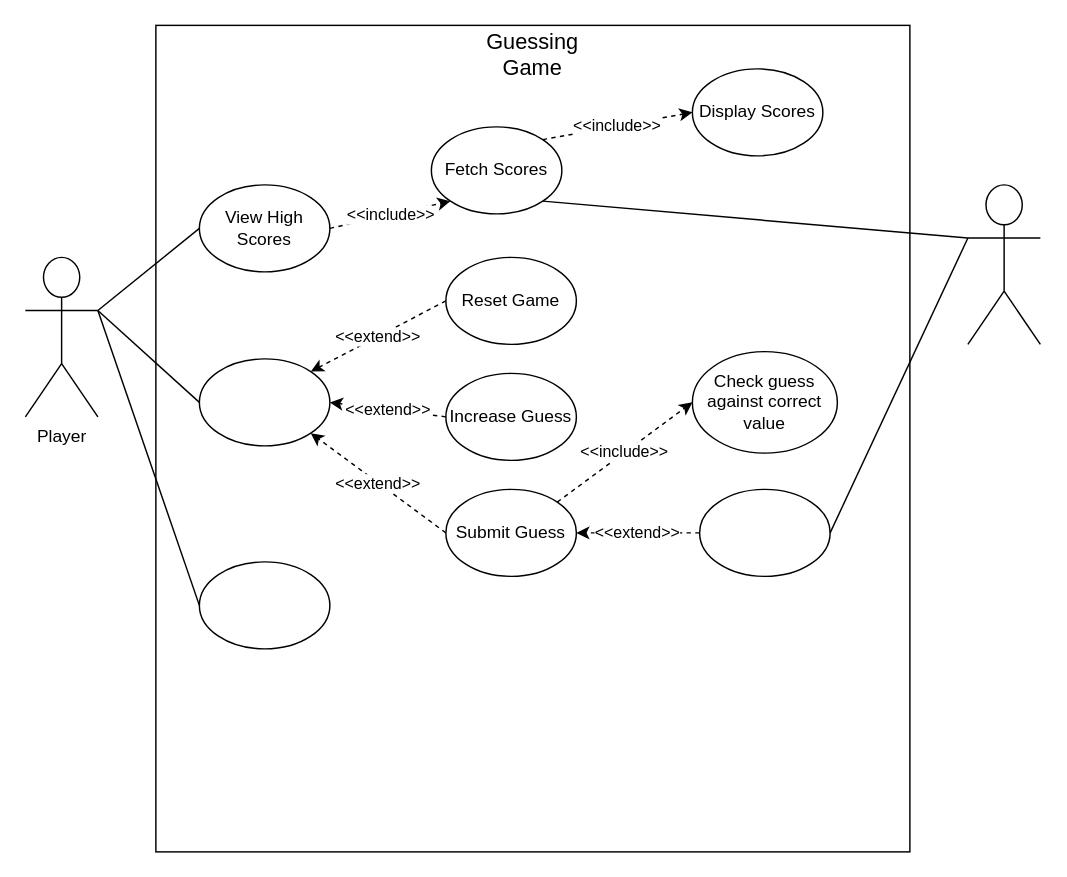
The diagram is 1067 pixels wide and 877 high, and some of its shapes have lost their labels. Here are the shapes that lost their labels. From the top down, the centre of each, then its label:
the point at 1003,263: EEPROM
the point at 264,401: Play Game
the point at 764,532: Save Scores
the point at 264,604: Quit
